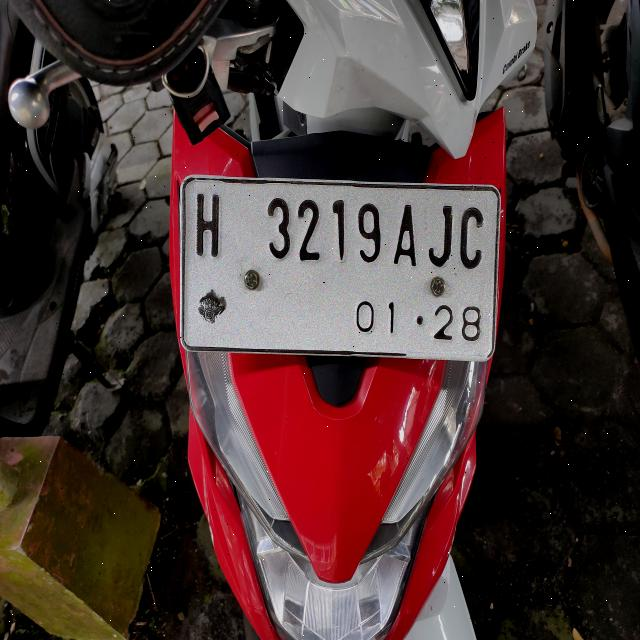plate: (181, 177, 499, 359)
